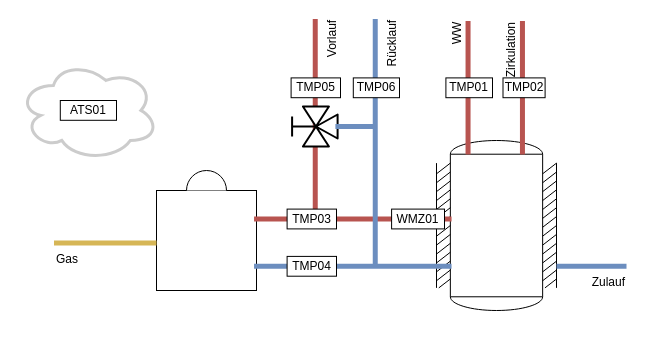
Some shapes in this 647 by 349 pixel diagram are drawn without their labels. Here are the shapes that lost their labels. From the top down, the box of each, then its label:
(156, 170, 256, 290): Gaskessel
(436, 140, 556, 310): Speicher
